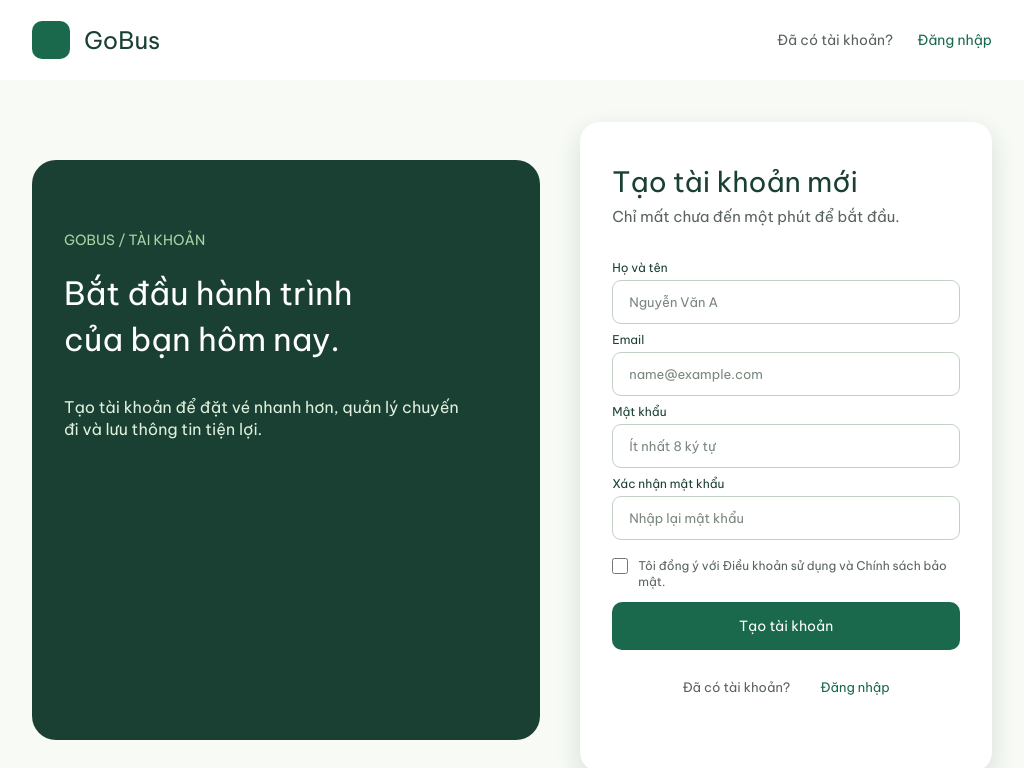
Registration form › AC-5 recovers after a network failure
The width and height of the screenshot is (1024, 768).
Type "Nguyễn An" into the field labelled "Họ và tên" at (786, 302), box [612,280,960,324]
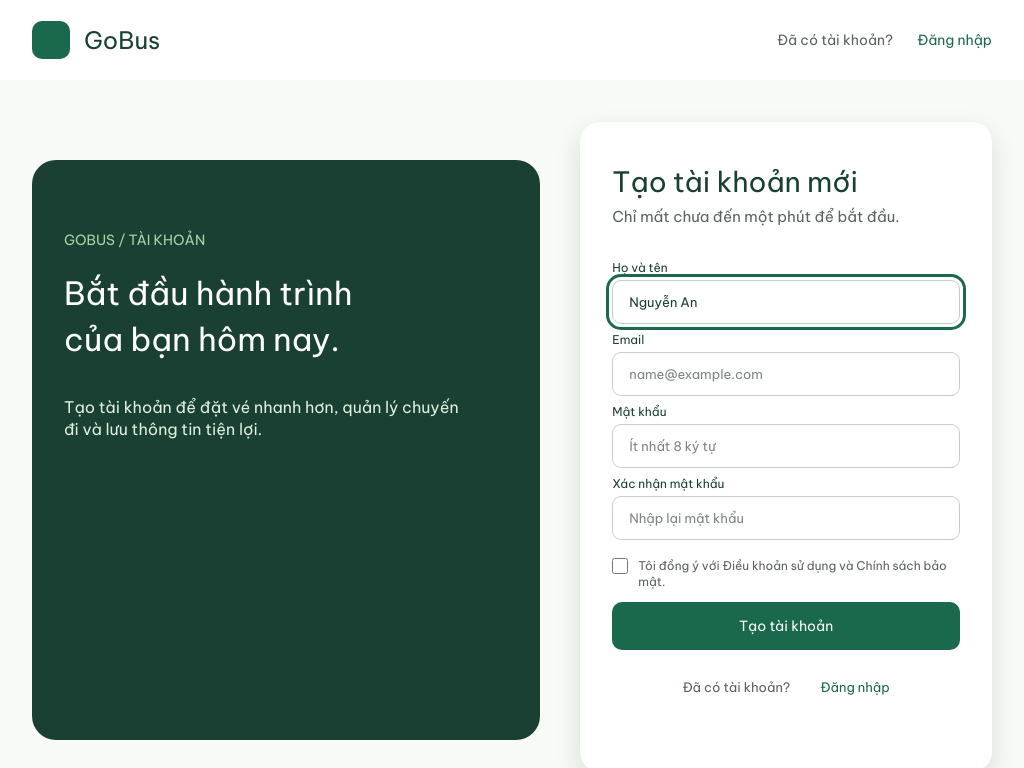
Type "AN@example.test" into the field labelled "Email" at (786, 374), box [612,352,960,396]
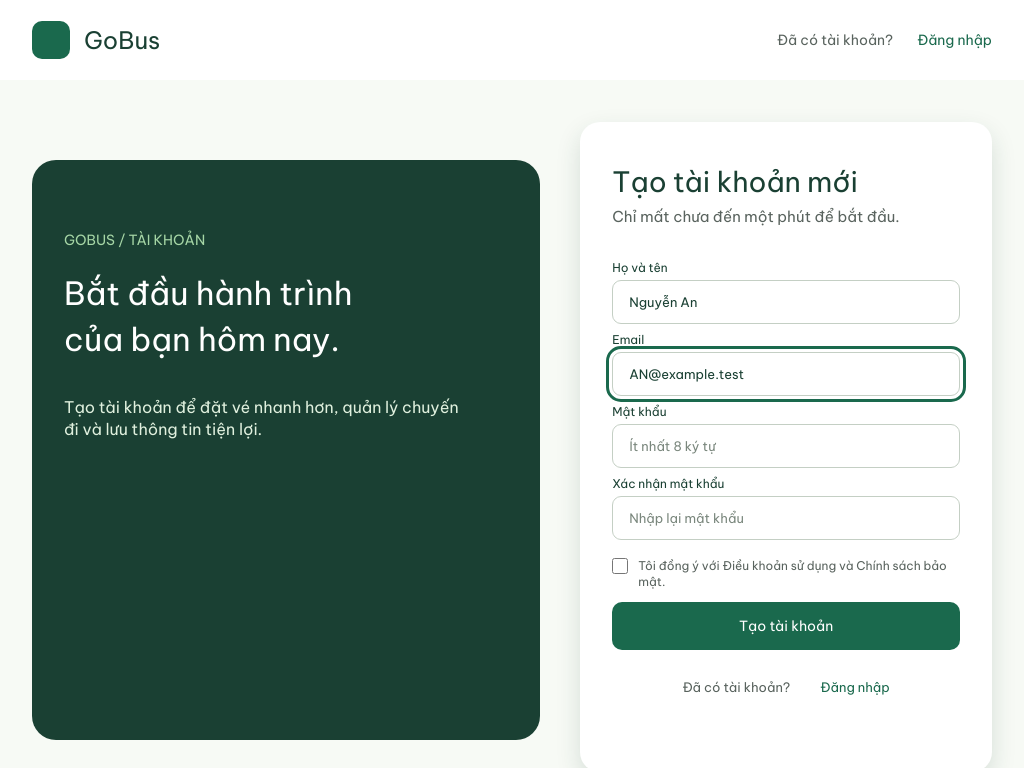
Type "DangKy2026! " into the password field labelled "Mật khẩu" at (786, 446), box [612,424,960,468]
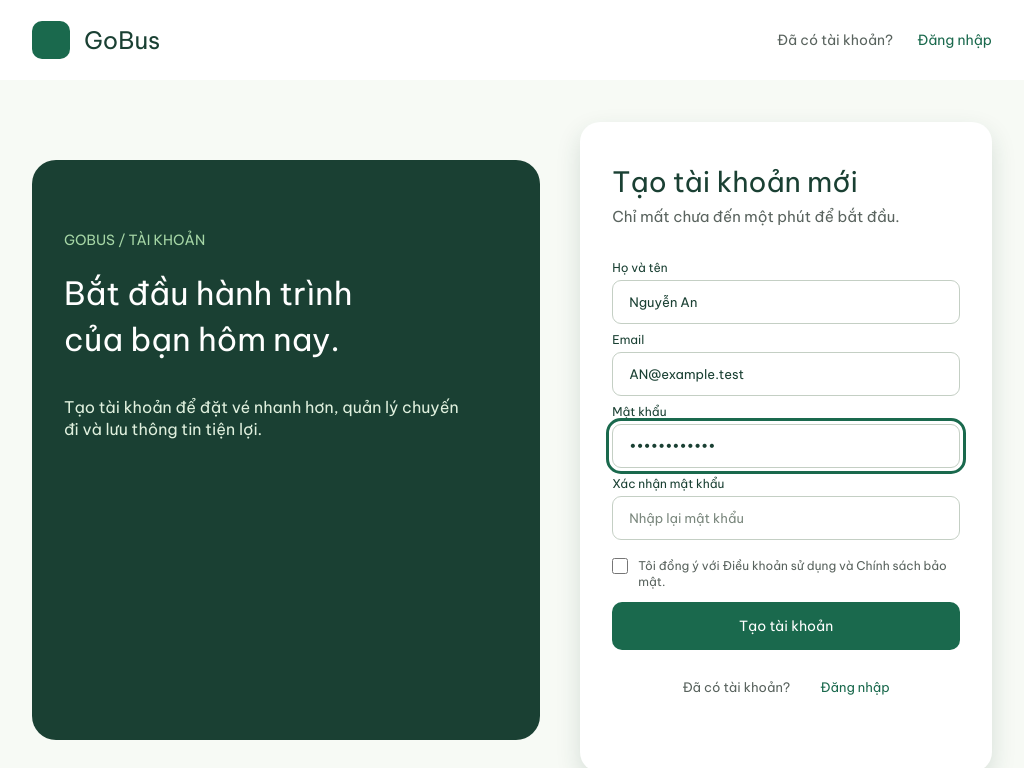
Type "DangKy2026! " into the password field labelled "Xác nhận mật khẩu" at (786, 518), box [612,496,960,540]
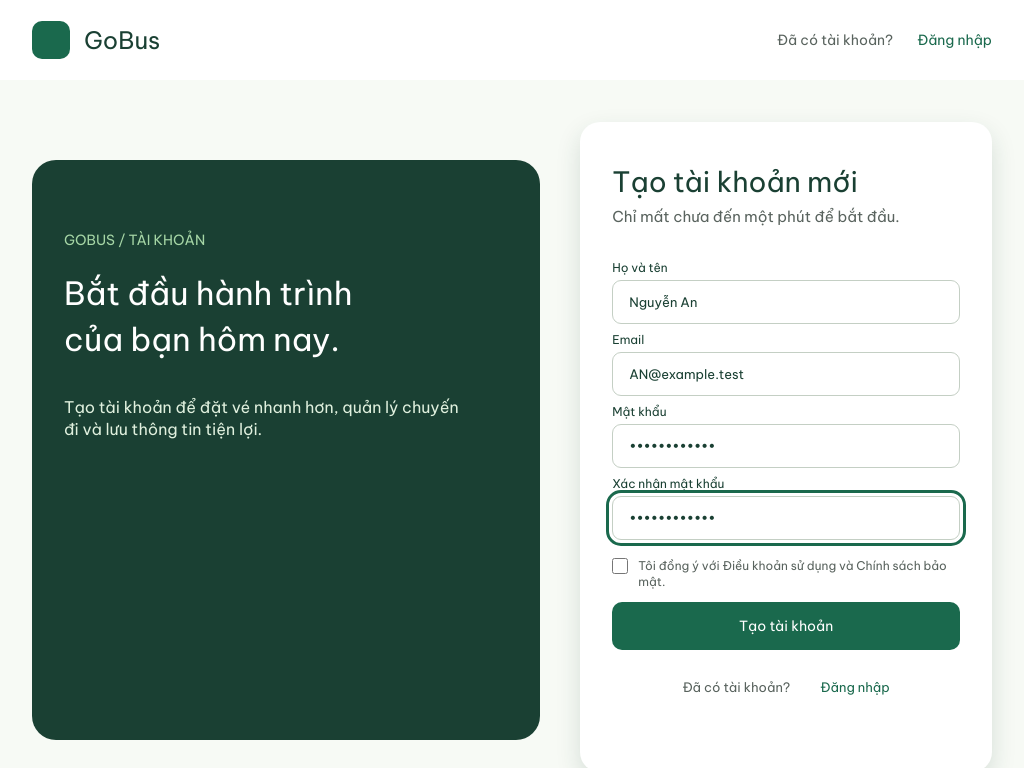
Click the checkbox at (620, 566), box [612,558,628,574]
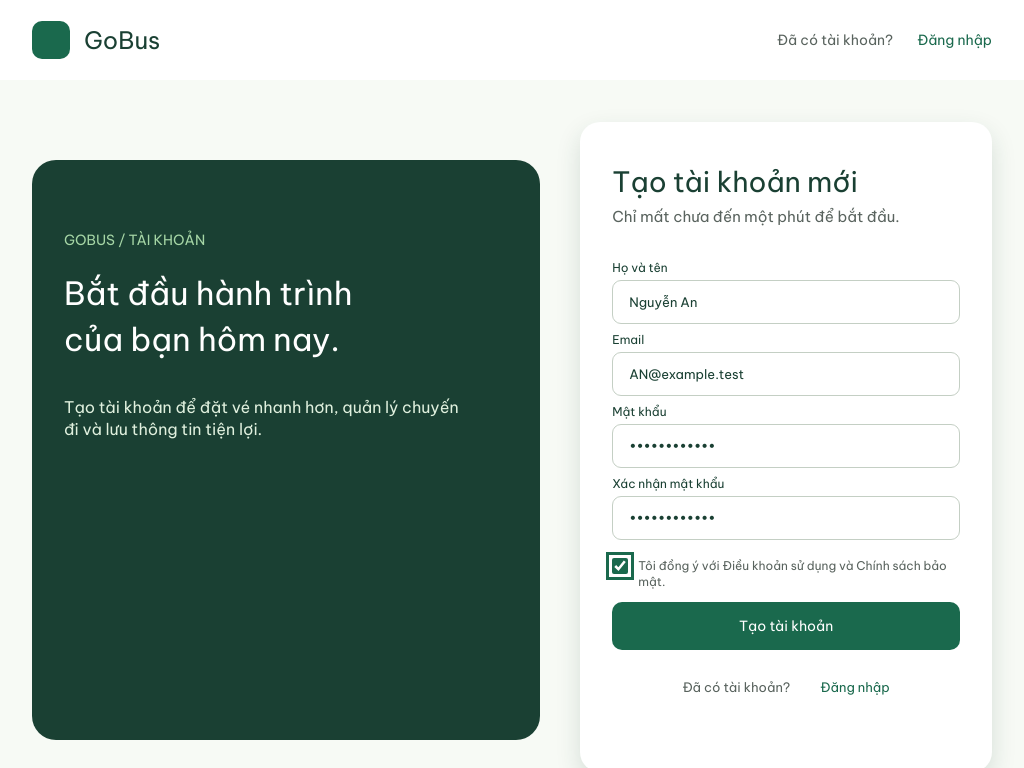
Click the button "Tạo tài khoản" at (786, 626), box [612,602,960,650]
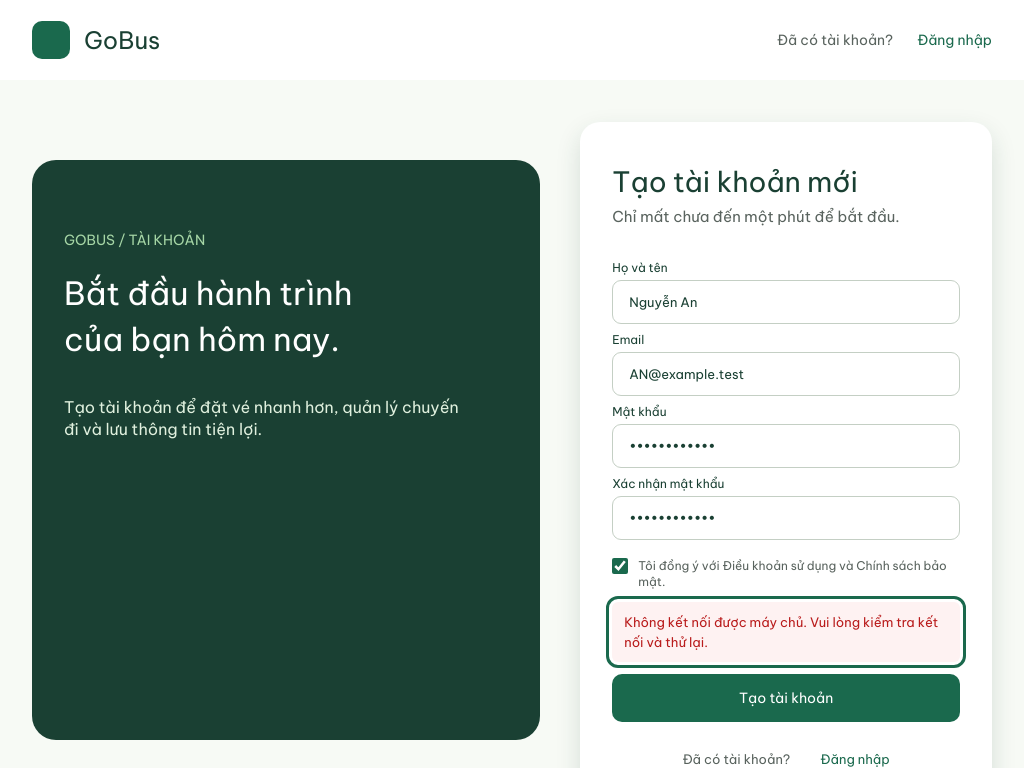
Expected: the button "Tạo tài khoản" is enabled, [612,674,960,722]
Expected: the message shows "Không kết nối được máy chủ", [624,614,938,650]
